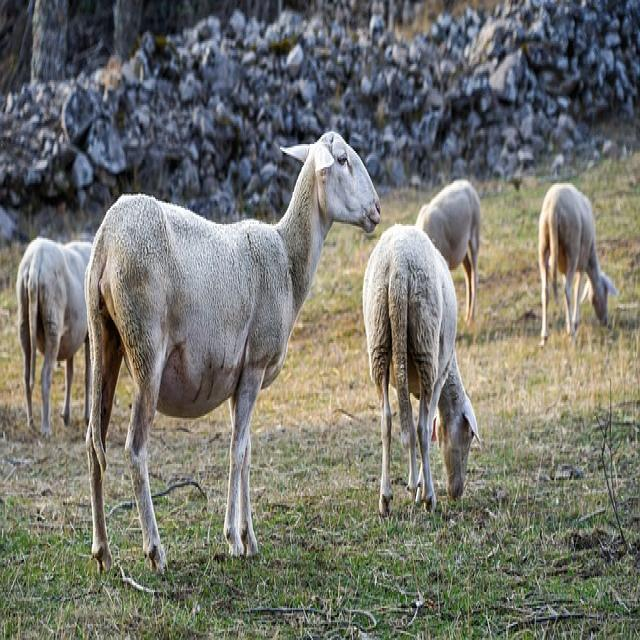sheep: (83, 128, 381, 576), (362, 222, 481, 518), (15, 235, 93, 437), (537, 180, 617, 346), (415, 178, 481, 327)
